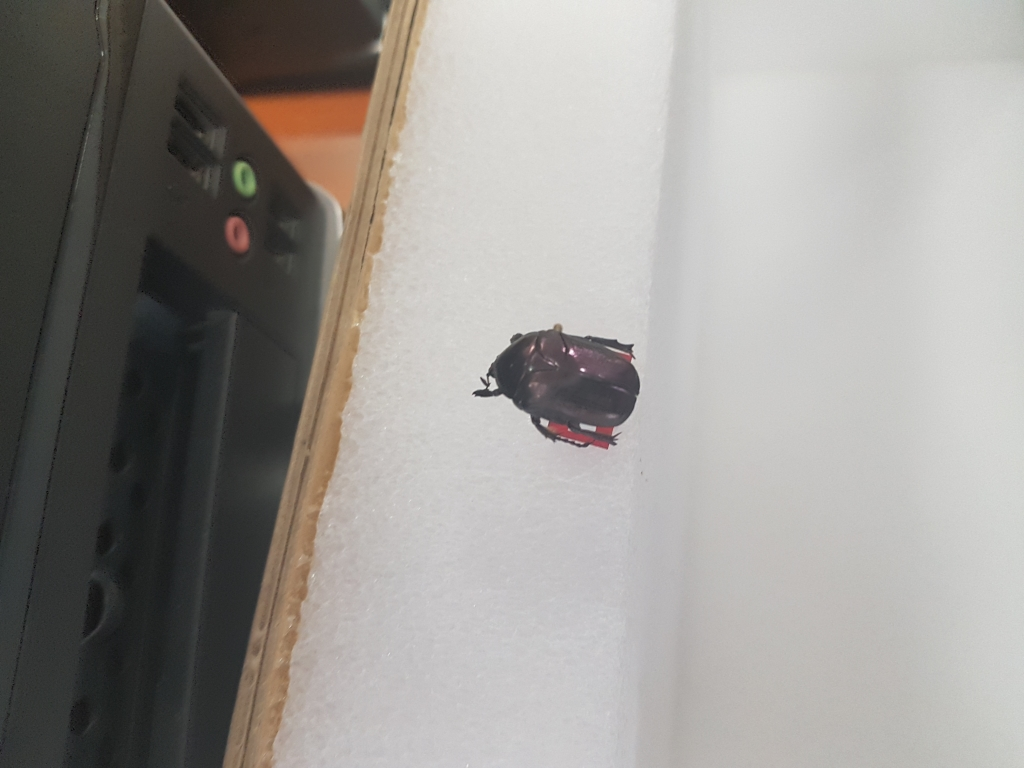Protaetia_besucheti: (462, 315, 652, 463)
